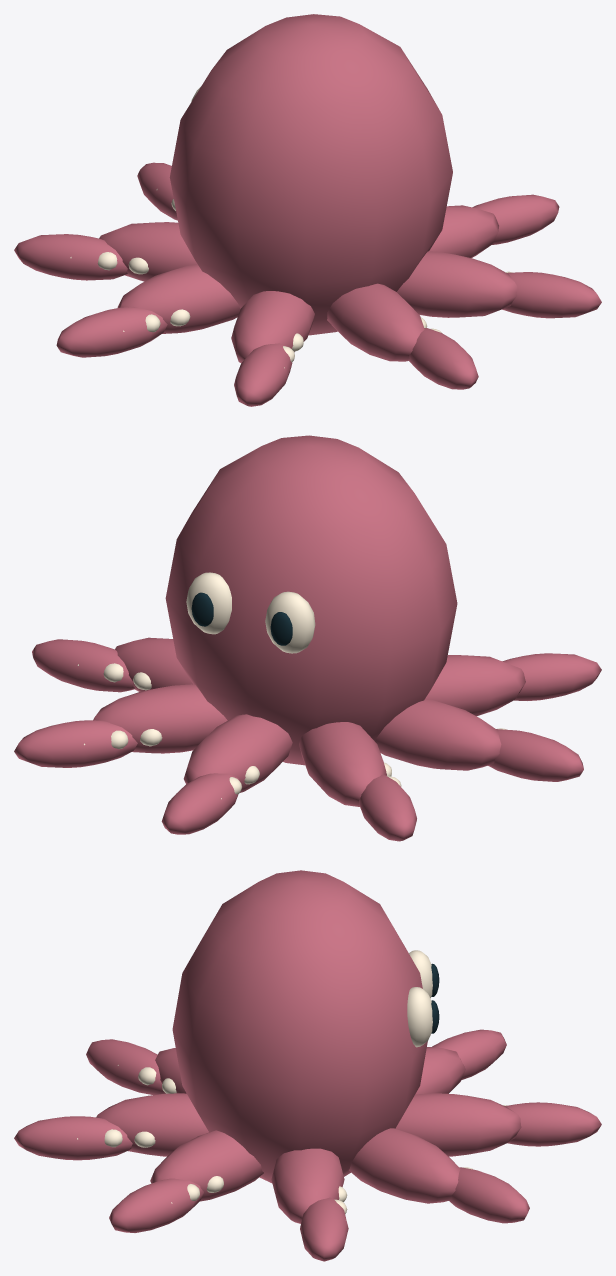
File: octopus.glb
3 renders of one model, top to bottom at view 1: azimuth 30°, elevation 25°; view 2: azimuth 150°, elevation 25°; view 3: azimuth 270°, elevation 25°, orthographic. The views are drawn at different scales.
Visible parts, largest first — view 1: body, armBase (×6), armTip (×7); view 2: body, armBase (×6), armTip (×6), eye (×2), pupil (×2); view 3: body, armBase (×7), armTip (×7), eye (×2).
Part boxes in pixels (x1,y1,x2,y2): body: (169, 14, 452, 335); armBase (×6): (99, 205, 517, 363); armTip (×7): (14, 162, 601, 406); body: (165, 435, 457, 765); armBase (×6): (93, 637, 525, 806); armTip (×6): (14, 639, 601, 841); eye (×2): (186, 572, 315, 653); pupil (×2): (191, 592, 292, 645); body: (172, 870, 427, 1182); armBase (×7): (96, 1047, 521, 1223); armTip (×7): (14, 1029, 601, 1261); eye (×2): (407, 950, 432, 1047).
Bounding box in the file's own units: 0.434 × 0.24 × 0.434.
